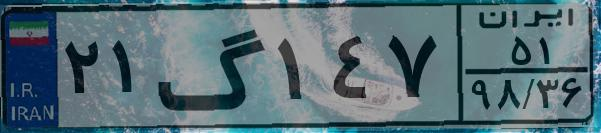1: (270, 28, 330, 110), (110, 28, 156, 98), (537, 27, 568, 80)
2: (57, 26, 110, 100)
3: (535, 70, 560, 125)
4: (330, 28, 385, 110)
5: (508, 27, 537, 80)
6: (560, 70, 590, 125)
7: (385, 28, 445, 110)
8: (495, 70, 520, 125)
9: (470, 70, 495, 125)
گ: (156, 12, 270, 120)
